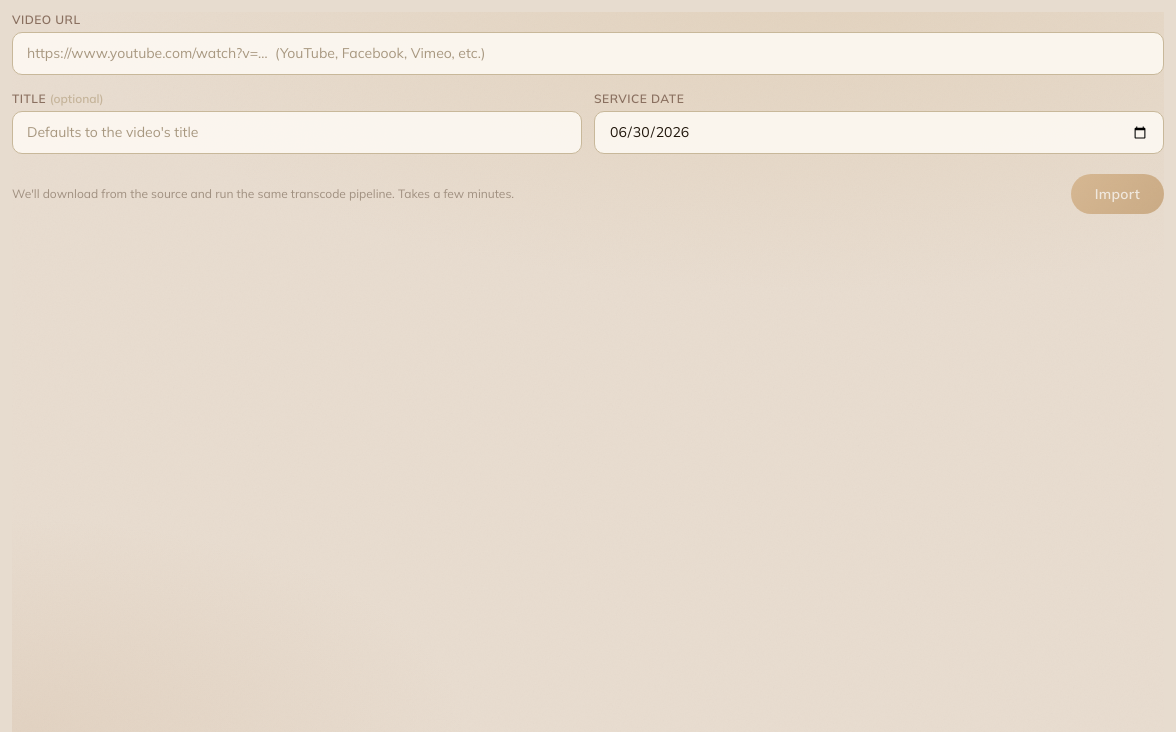
it: <YouTubeImportForm /> › disables the import button until a valid URL is entered
This screenshot has width=1176, height=732.
Expected: the button "Import" is disabled, top-left (1071, 174), bottom-right (1164, 214)
Replace the text in the field with placeholder "youtube.com" with "not-a-url". click: (588, 54)
box: top-left (12, 32), bottom-right (1164, 75)
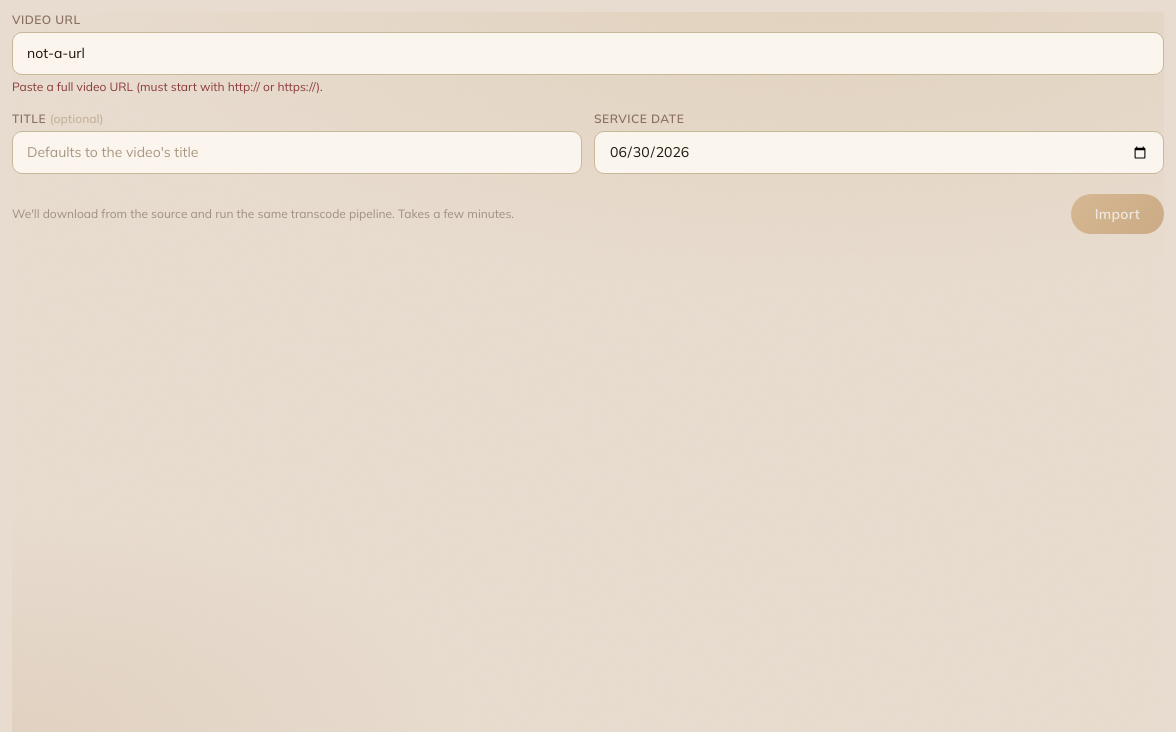
Expected: the button "Import" is disabled, top-left (1071, 194), bottom-right (1164, 234)
Now the text "Paste a full video URL" is shown, box top-left (12, 79), bottom-right (323, 94)
Replace the text in the field with placeholder "youtube.com" with "https://www.youtube.com/watch?v=abc123". click: (588, 54)
box: top-left (12, 32), bottom-right (1164, 75)
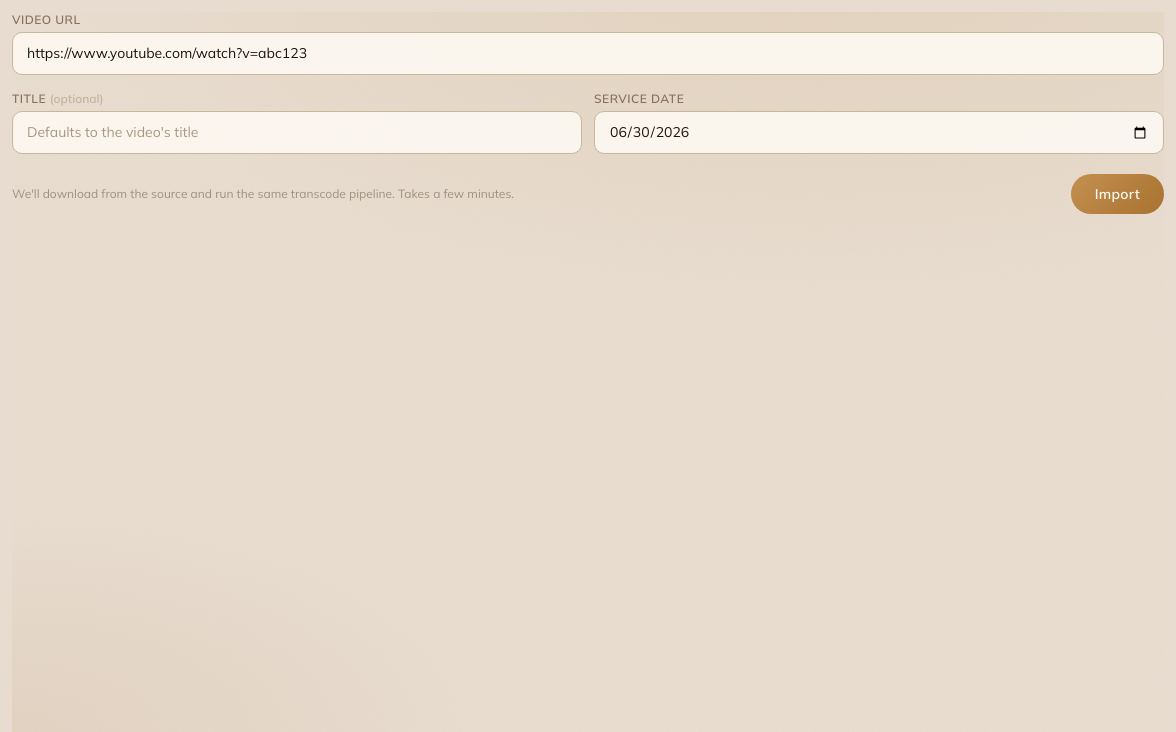
Now the button "Import" is enabled, box top-left (1071, 174), bottom-right (1164, 214)
